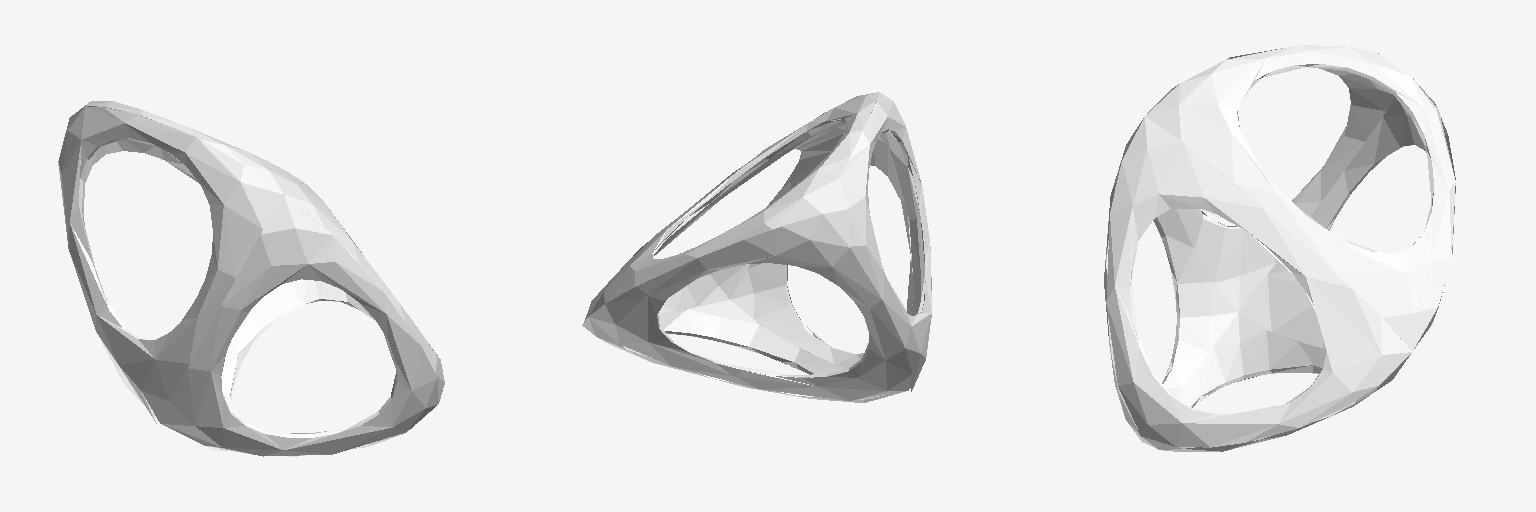
Rendered from abstract.obj.
3 views of the same model, side by side, from view 1: azimuth 30°, elevation 25°; view 2: azimuth 150°, elevation 25°; view 3: azimuth 270°, elevation 25° (orthographic).
Visible parts, largest first — view 1: Cube__0; view 2: Cube__0; view 3: Cube__0.
Part boxes in pixels (bbox=[...]): Cube__0: bbox=[58, 101, 444, 456]; Cube__0: bbox=[582, 92, 931, 402]; Cube__0: bbox=[1104, 45, 1455, 451].
Bounding box in the file's own units: 160 × 161 × 161.